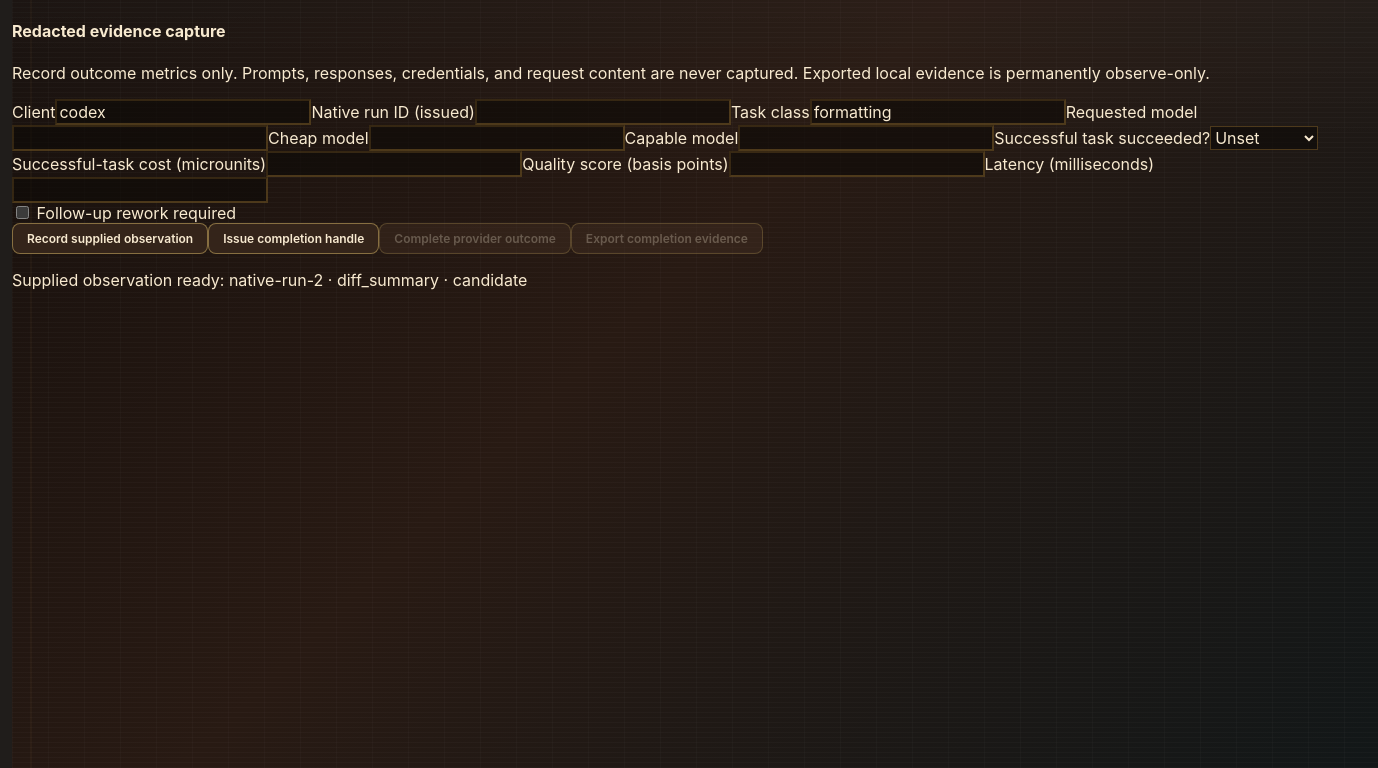
optimization supporting panels › forwards an explicitly supplied observation without adding defaults
Expected: the text "Supplied observation ready: native-run-2 · diff_summary · candidate" is shown, [12,270,527,290]
Click the button "Record supplied observation" at (110, 238), box [12,222,208,254]
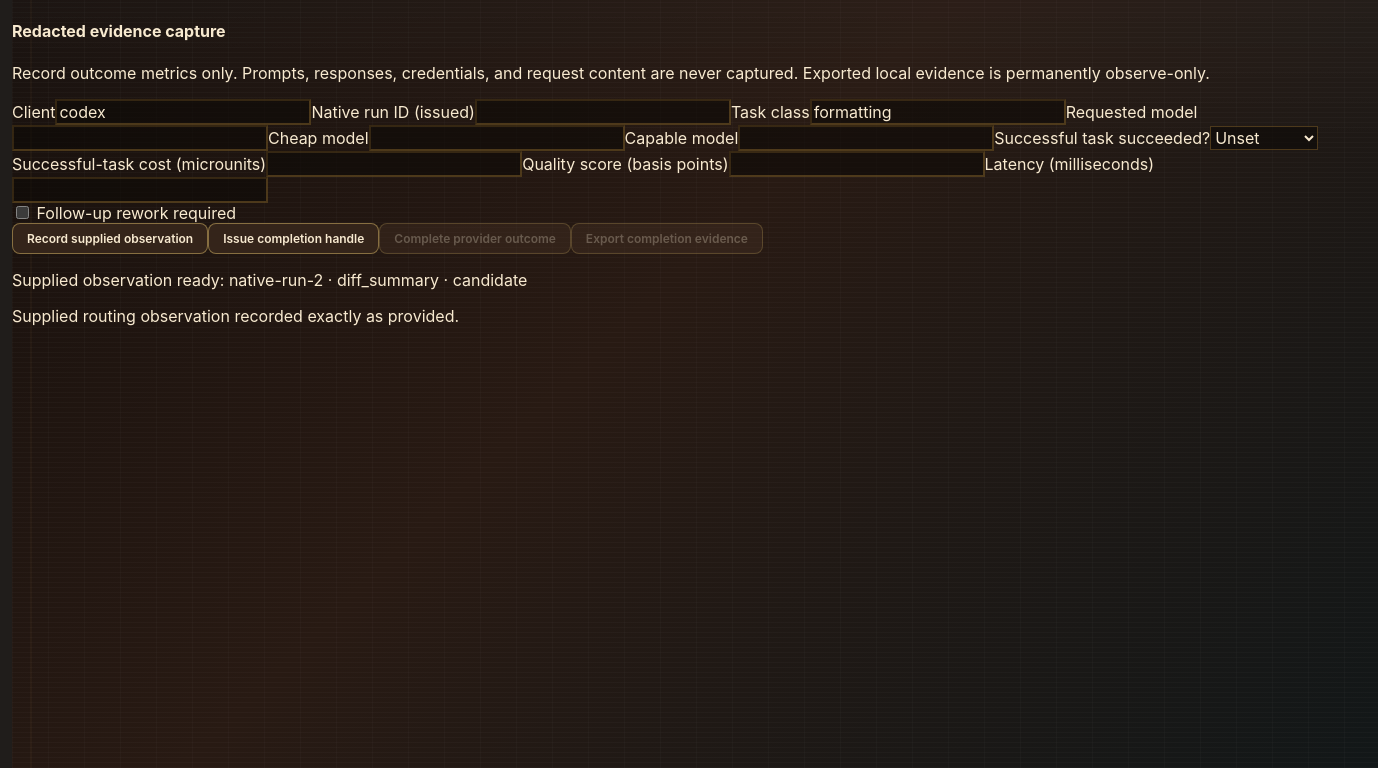
Result: the text "Supplied routing observation recorded exactly as provided." is shown at [12,306,459,326]
